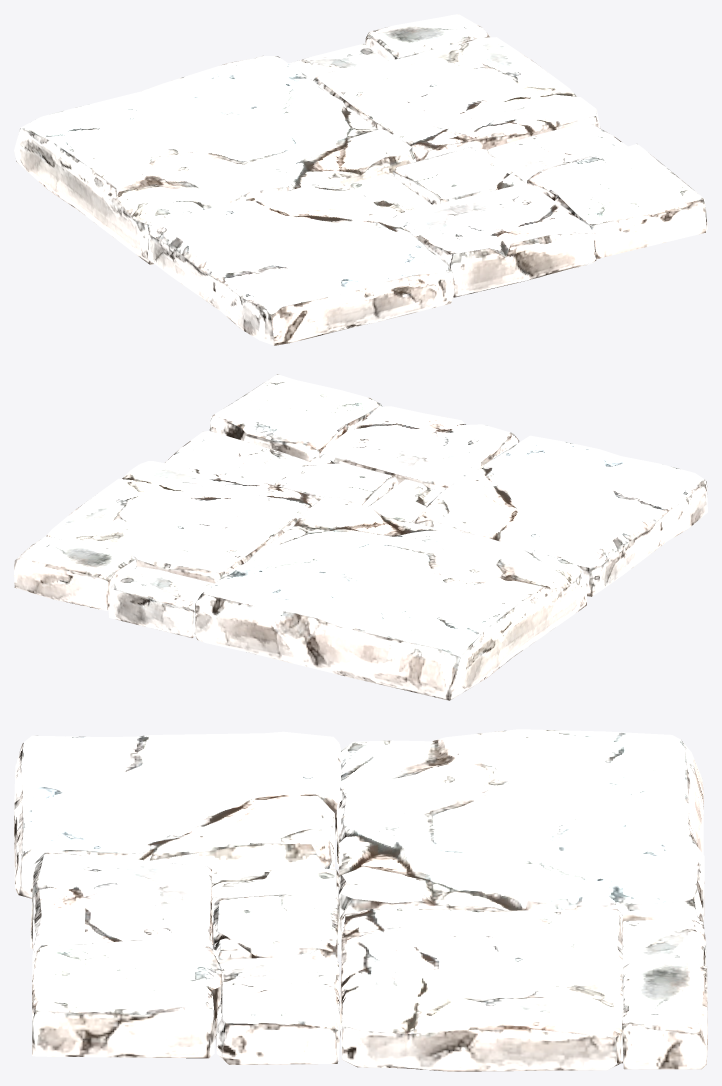
The model's file is TileFloor1.fbx.
The picture shows the model from 3 angles, top to bottom: view 1: azimuth 30°, elevation 25°; view 2: azimuth 150°, elevation 25°; view 3: azimuth 270°, elevation 25°; orthographic projection. The views are drawn at different scales.
Parts seen in each view (by area): view 1: Dn_HL_FloorTiles_A.001; view 2: Dn_HL_FloorTiles_A.001; view 3: Dn_HL_FloorTiles_A.001.
Boxes of the visible parts, bbox=[...] form: Dn_HL_FloorTiles_A.001: bbox=[14, 14, 707, 345]; Dn_HL_FloorTiles_A.001: bbox=[14, 374, 707, 700]; Dn_HL_FloorTiles_A.001: bbox=[14, 729, 707, 1071].
Bounding box in the file's own units: 10402 × 1129 × 10320.
Materials: 1 (1 with a texture image).
